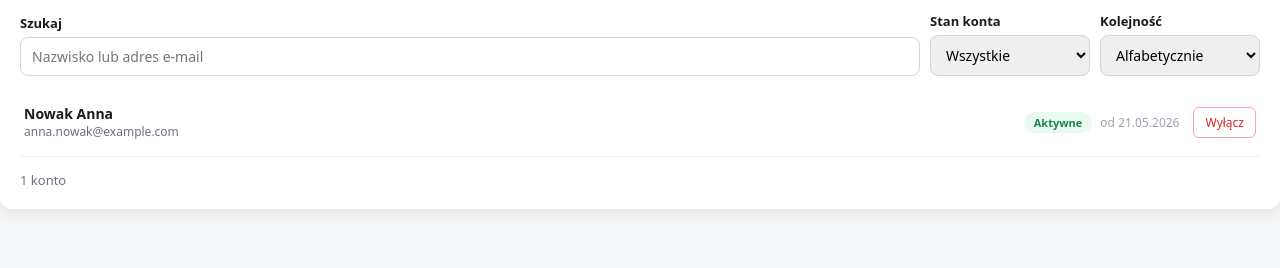
Test: AdminUsersPage › zmiana filtru stanu odpytuje serwer z parametrem status
Expected: the text "Nowak Anna" is shown, x1=24 y1=104 x2=113 y2=123
Select "Wyłączone" in the dropdown labelled "Stan konta". click: (1010,56)
box: x1=930 y1=35 x2=1090 y2=76
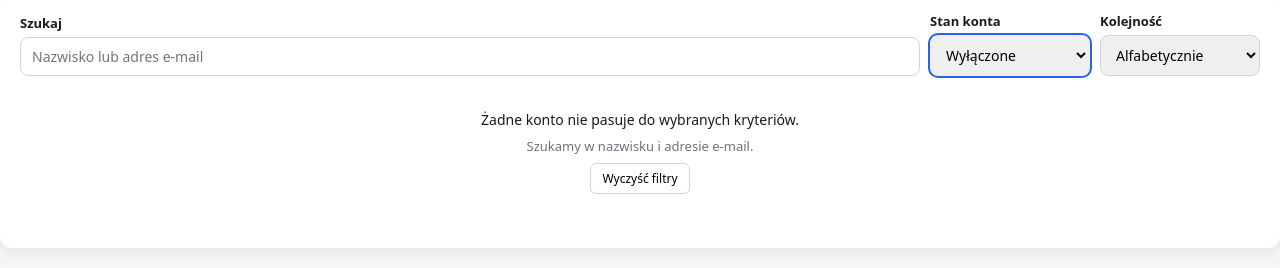
Expected: the text "Żadne konto nie pasuje do wybranych kryteriów." is shown, x1=481 y1=110 x2=799 y2=129
